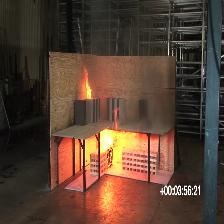fire: (101, 109, 139, 166), (83, 66, 91, 99)
